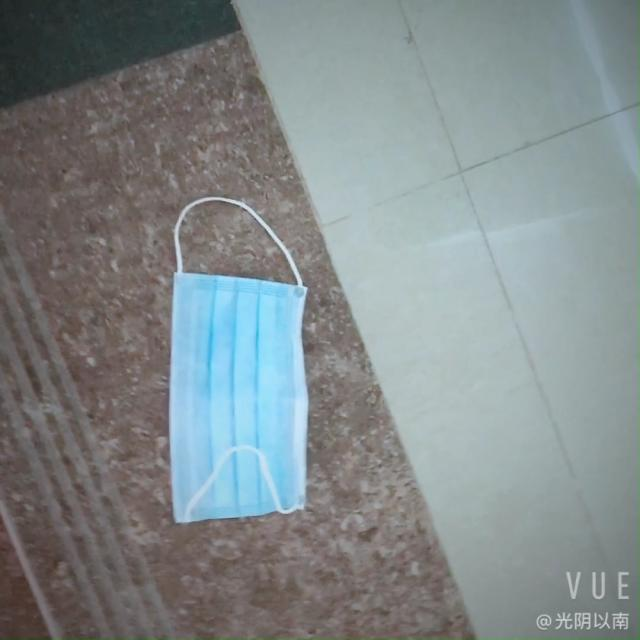non-organic waste: (147, 254, 320, 520)
